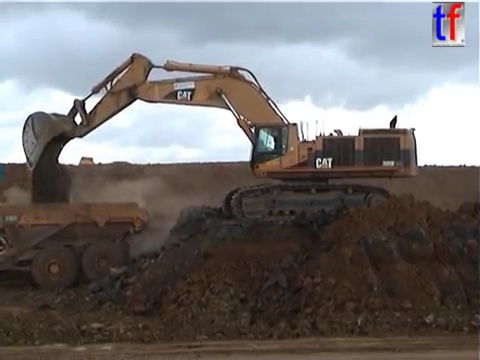excavator: (18, 50, 422, 229)
truck: (1, 199, 150, 292), (78, 156, 94, 170)
worker: (62, 189, 78, 217)
